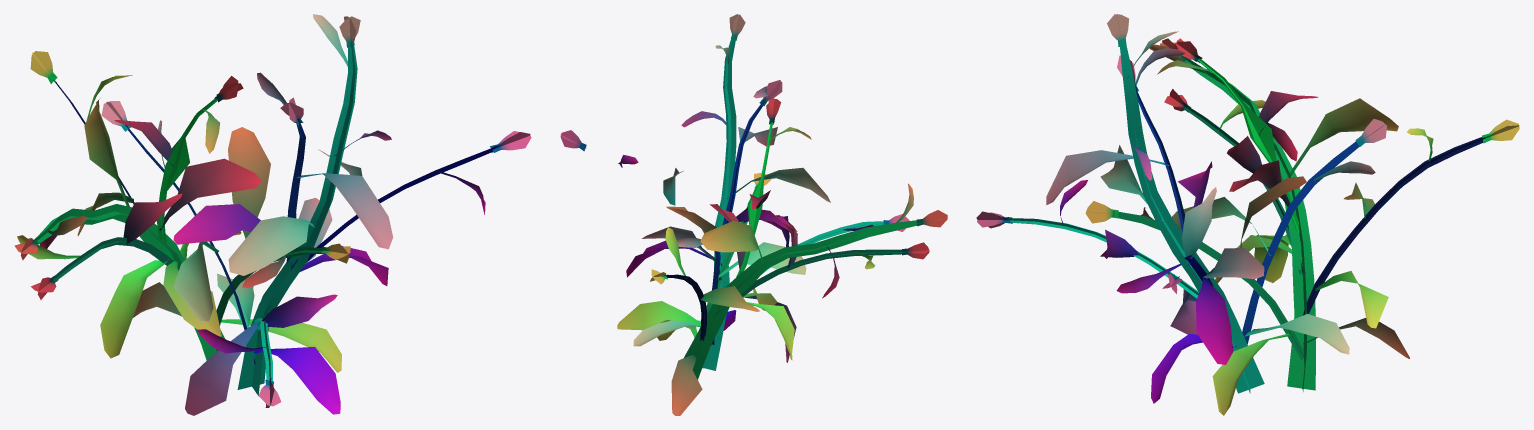
The model's file is Field_Poppy_vmcobd0ja_Low_vmcobd0ja_VarG_LOD0.fbx.
3 renders of one model, left to right at view 1: azimuth 30°, elevation 25°; view 2: azimuth 150°, elevation 25°; view 3: azimuth 270°, elevation 25°, orthographic. The views are drawn at different scales.
Parts seen in each view (by area): view 1: _l8y8_VarG_LOD2; view 2: _l8y8_VarG_LOD2; view 3: _l8y8_VarG_LOD2.
Boxes of the visible parts, bbox=[...] form: _l8y8_VarG_LOD2: bbox=[14, 14, 531, 415]; _l8y8_VarG_LOD2: bbox=[560, 14, 947, 415]; _l8y8_VarG_LOD2: bbox=[976, 14, 1519, 415].
Size of the model in its own units: 52.25 by 40.79 by 51.23.
